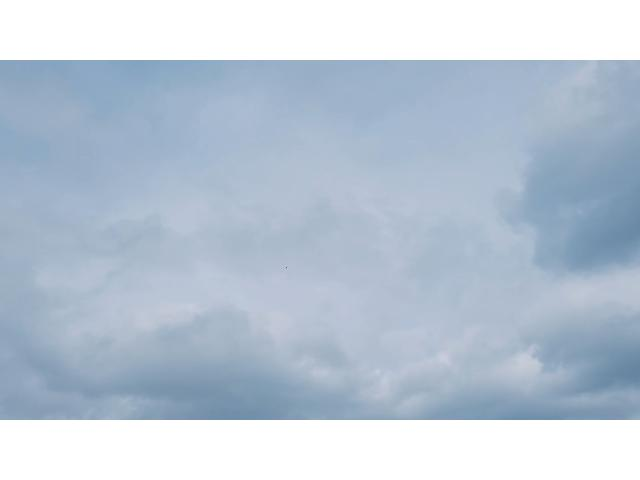Anti-Drone: (281, 265, 289, 269)
